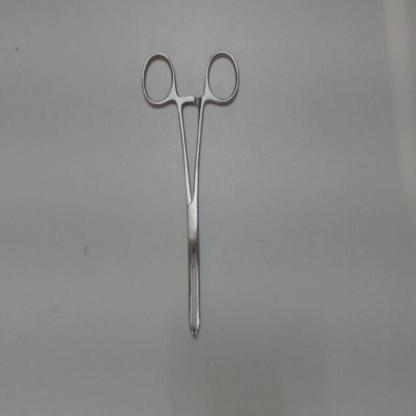Allis Tissue Forceps: (136, 45, 251, 354)
